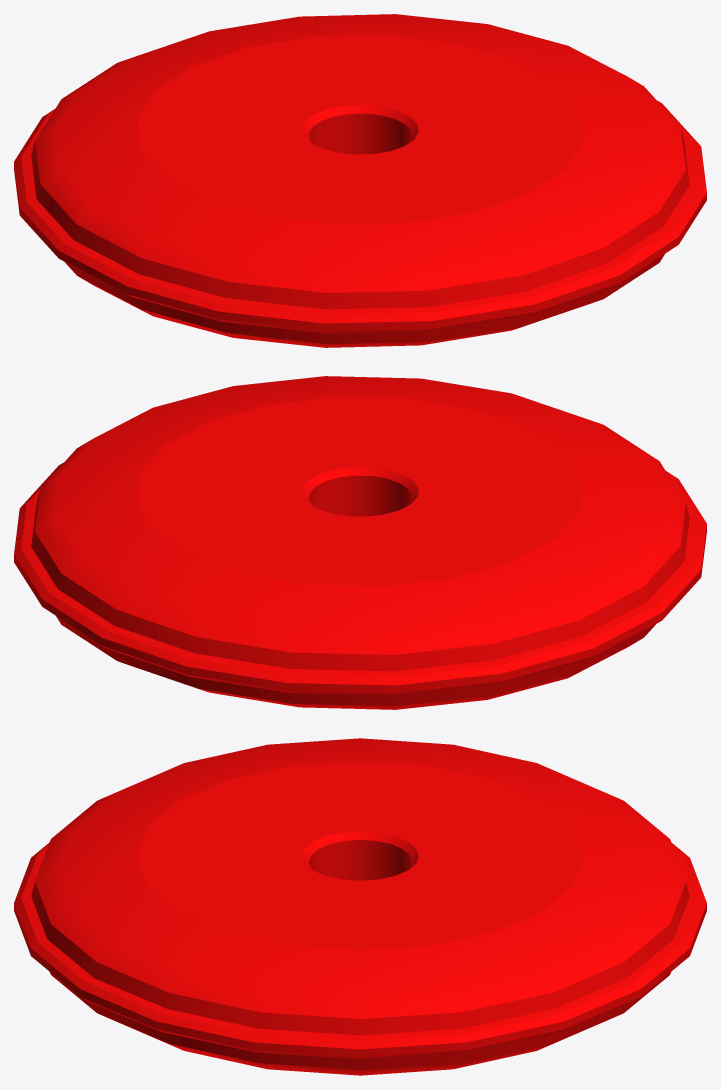
Rendered from Ring 5.obj.
The picture shows the model from 3 angles, top to bottom: view 1: azimuth 30°, elevation 25°; view 2: azimuth 150°, elevation 25°; view 3: azimuth 270°, elevation 25°; orthographic projection.
Visible parts, largest first — view 1: polySurface12 polySurface6; view 2: polySurface12 polySurface6; view 3: polySurface12 polySurface6.
Part boxes in pixels (left/top/right/bottom): polySurface12 polySurface6: left=14, top=14, right=706, bottom=347; polySurface12 polySurface6: left=14, top=376, right=706, bottom=709; polySurface12 polySurface6: left=14, top=738, right=706, bottom=1075.
Bounding box in the file's own units: 4.36 × 0.7073 × 4.36.
